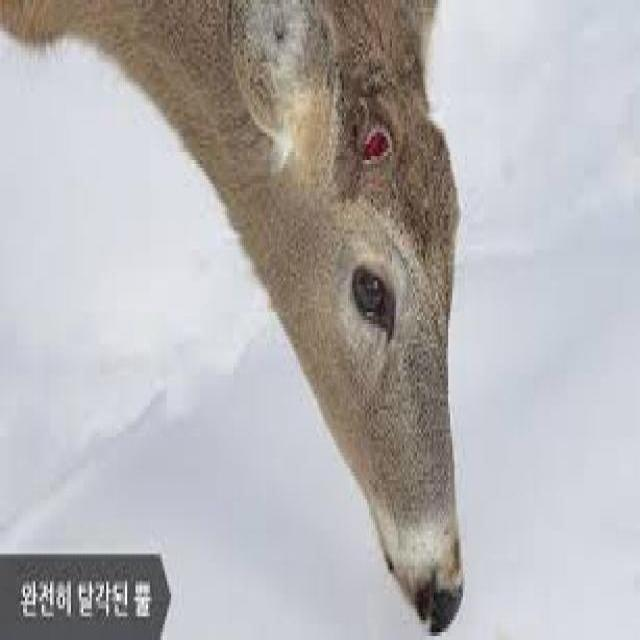deer: (180, 0, 499, 640)
